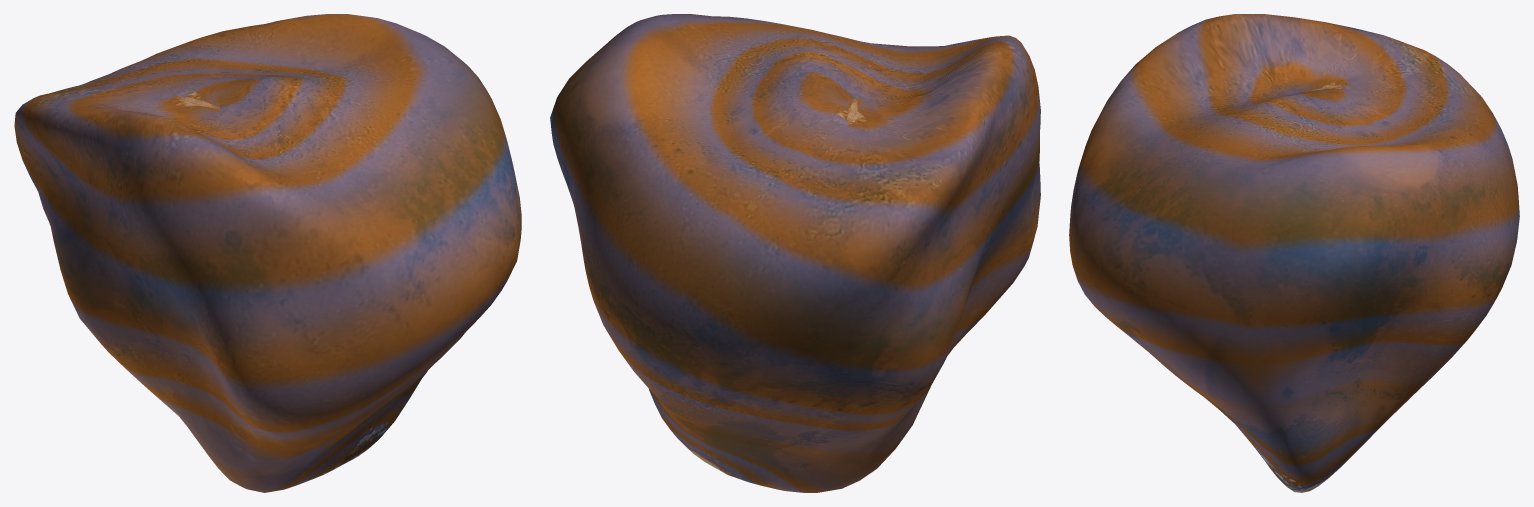
Rendered from Asteroid3.FBX.
3 renders of one model, left to right at view 1: azimuth 30°, elevation 25°; view 2: azimuth 150°, elevation 25°; view 3: azimuth 270°, elevation 25°, orthographic. The views are drawn at different scales.
Parts seen in each view (by area): view 1: GeoSphere01; view 2: GeoSphere01; view 3: GeoSphere01.
Part boxes in pixels (x1=…): GeoSphere01: x1=14, y1=14, x2=521, y2=492; GeoSphere01: x1=550, y1=14, x2=1040, y2=492; GeoSphere01: x1=1069, y1=14, x2=1519, y2=492.
Size of the model in its own units: 105 by 113 by 106.
Materials: 1 (1 with a texture image).
